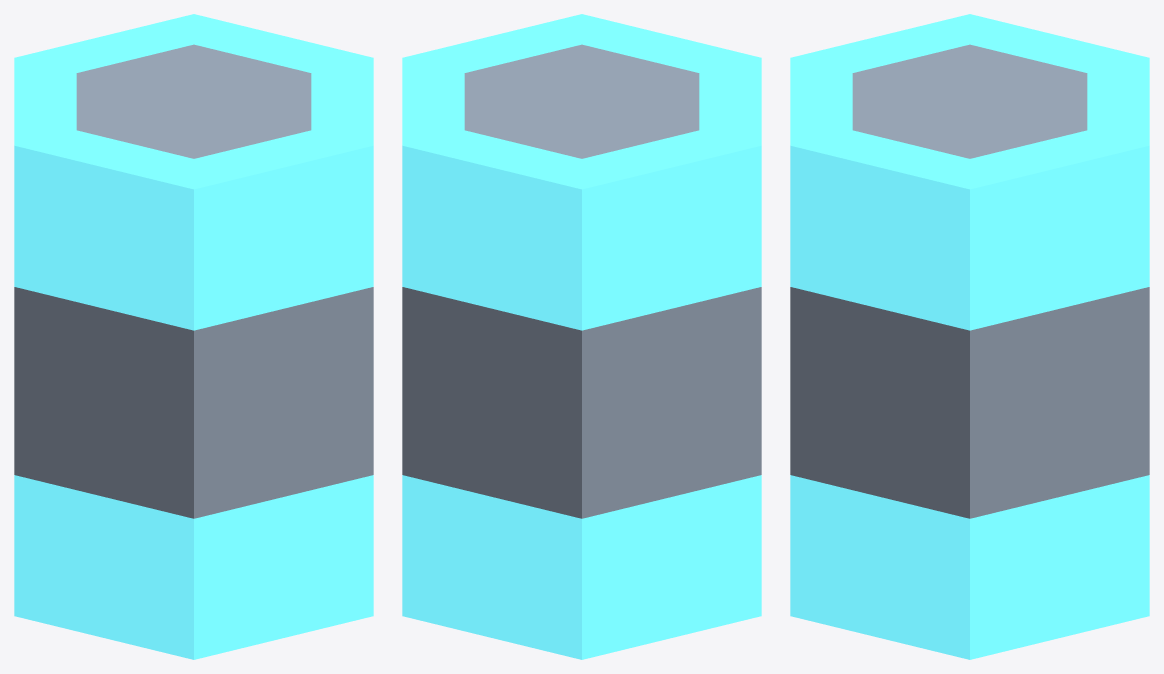
Rendered from barrel.glb.
3 renders of one model, left to right at view 1: azimuth 30°, elevation 25°; view 2: azimuth 150°, elevation 25°; view 3: azimuth 270°, elevation 25°, orthographic.
Parts seen in each view (by area): view 1: barrel; view 2: barrel; view 3: barrel.
Part boxes in pixels (x1,y1,x2,y2): barrel: [14, 14, 373, 659]; barrel: [402, 14, 761, 659]; barrel: [790, 14, 1149, 659].
Bounding box in the file's own units: 0.2 × 0.25 × 0.1732.
